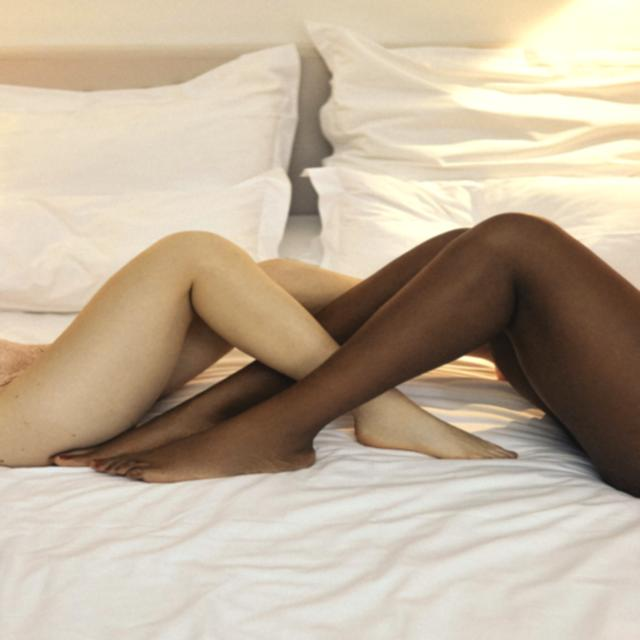piel: (0, 211, 640, 498)
